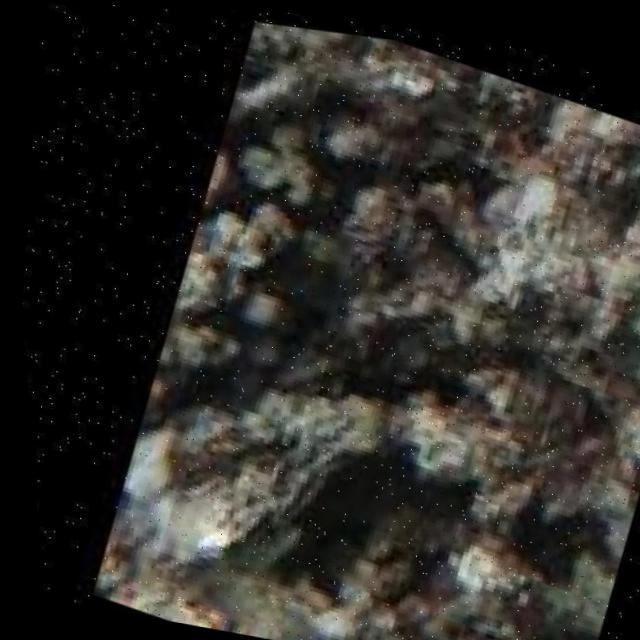Bleached Coral: (431, 34, 640, 406), (94, 352, 361, 640)
Dead Coral: (176, 6, 490, 397)
